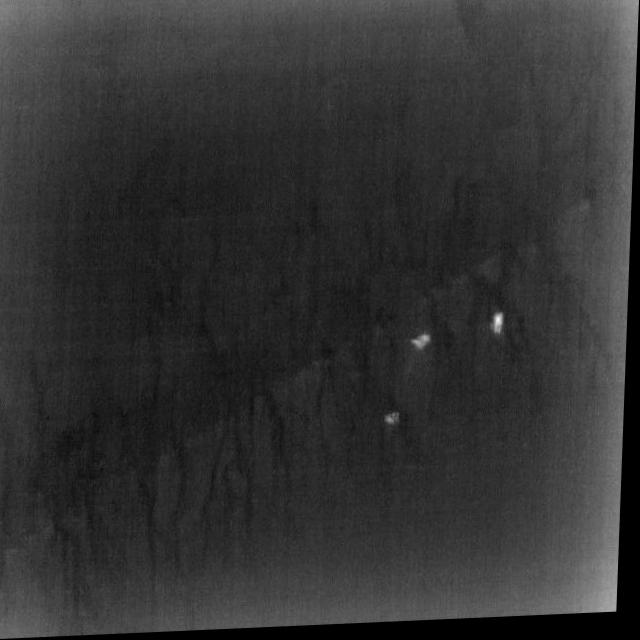deer: (413, 336, 434, 355), (494, 315, 506, 340), (387, 415, 403, 429)
